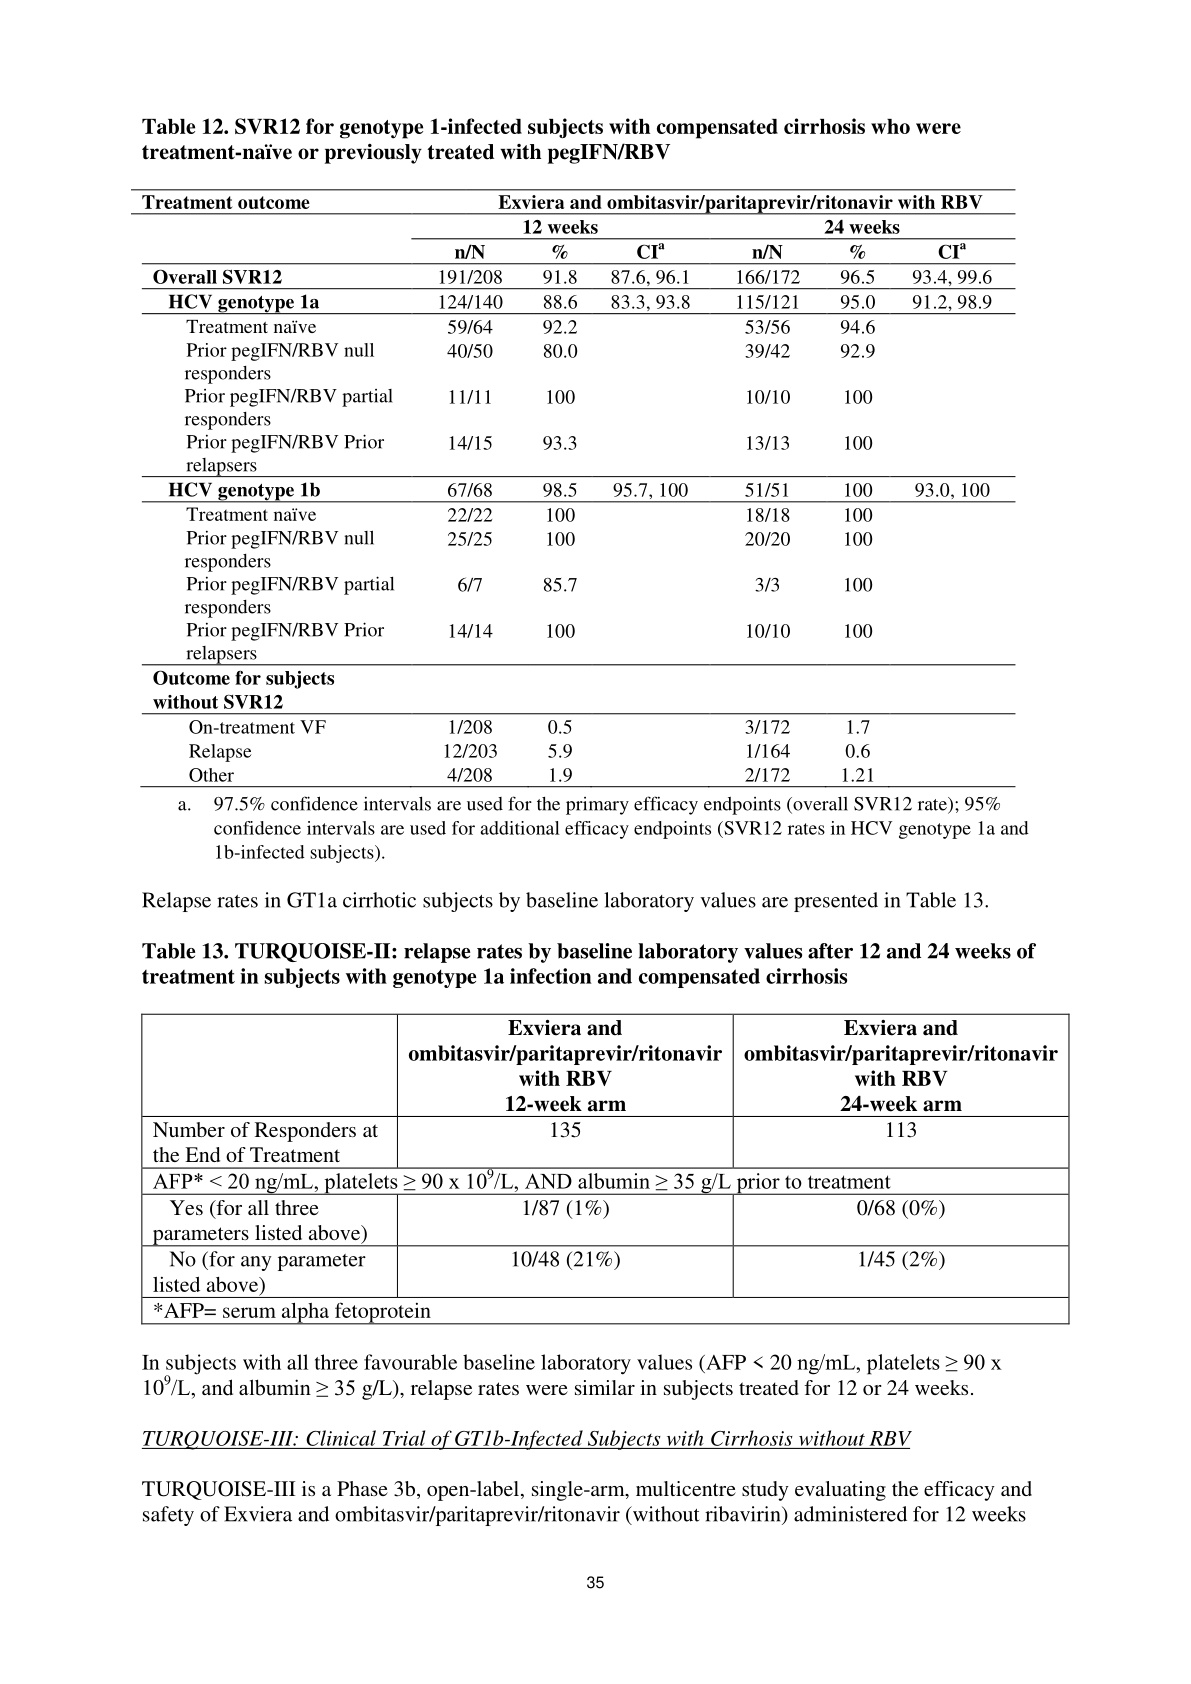merged_cells: (139, 1011, 1071, 1325)
partial_lined_merged_cells: (130, 187, 1018, 789)
